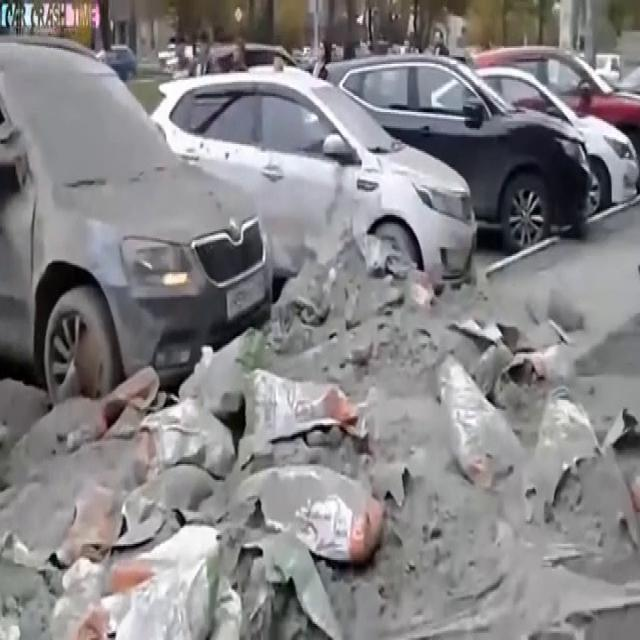accident: (12, 61, 286, 522)
